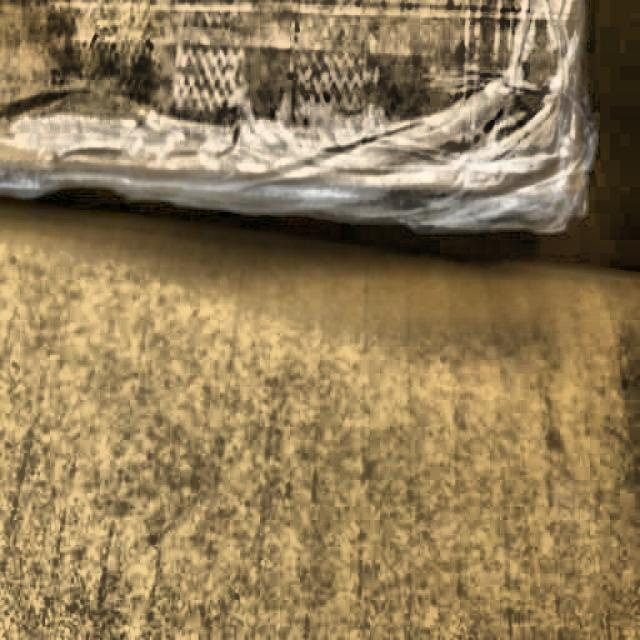cardboard: (3, 3, 640, 638)
